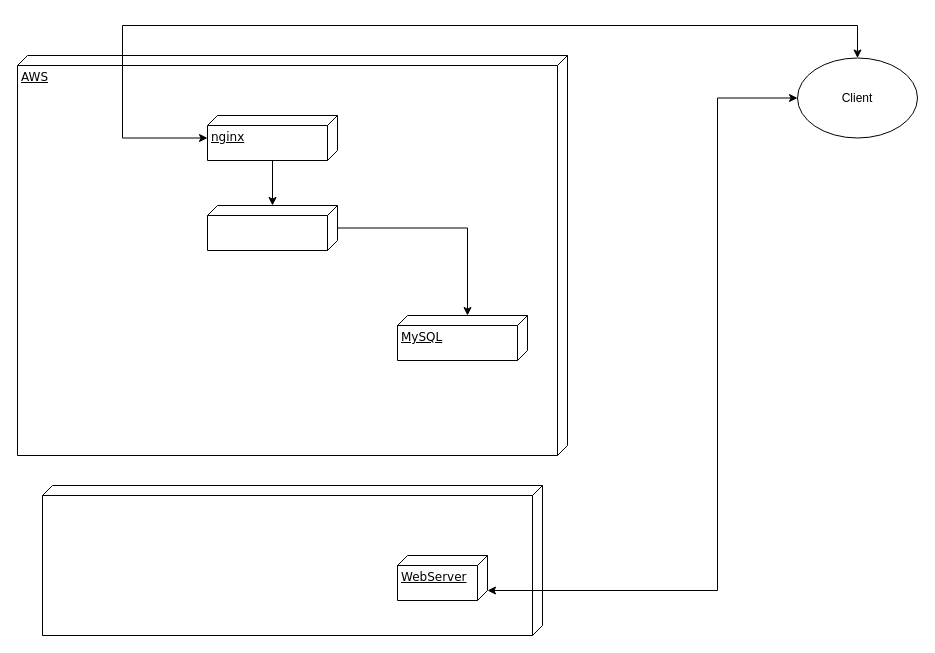
This 935x653 diagram has some shape labels left out. Each missing label, with the box of its shape:
Heroku: (42, 484, 542, 636)
Server: (206, 204, 338, 250)
